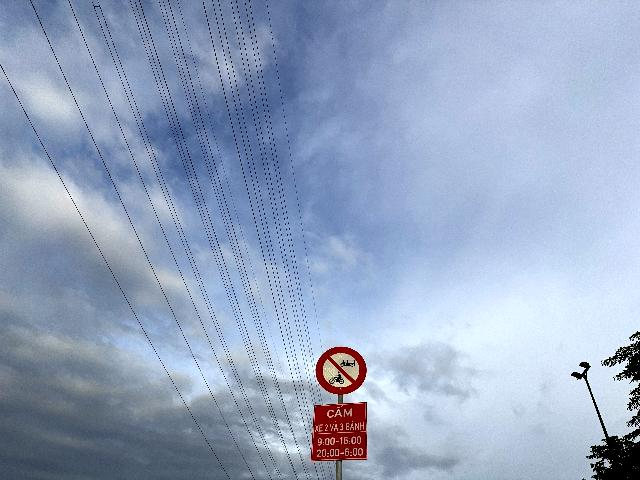cam-xe-2-banh-3-banh: (316, 346, 367, 394)
